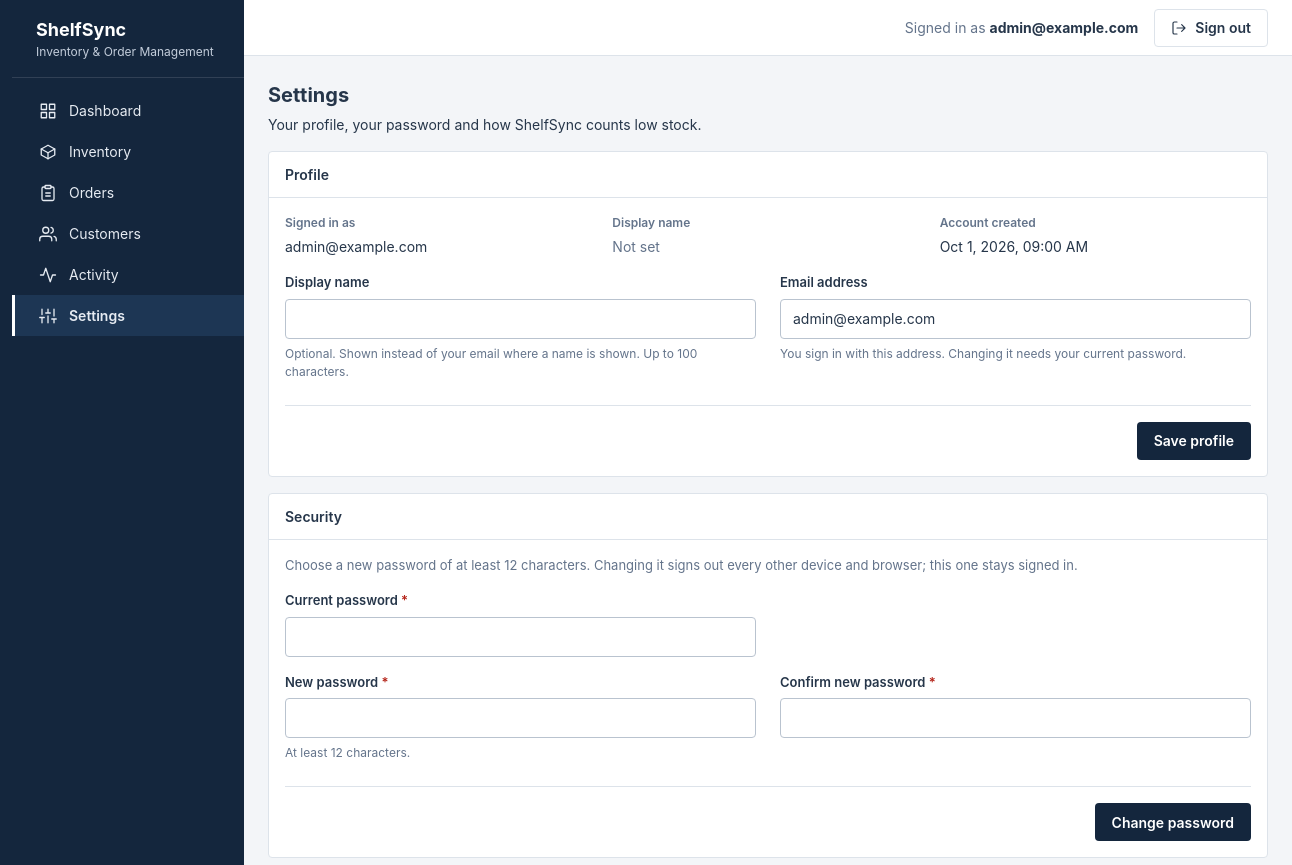
Test: the session after Settings changes › changing only the display name keeps the top bar and the page as they are
The image size is (1292, 865).
In the field labelled "Display name": (520, 318) [285,298,756,338], type "Sam"
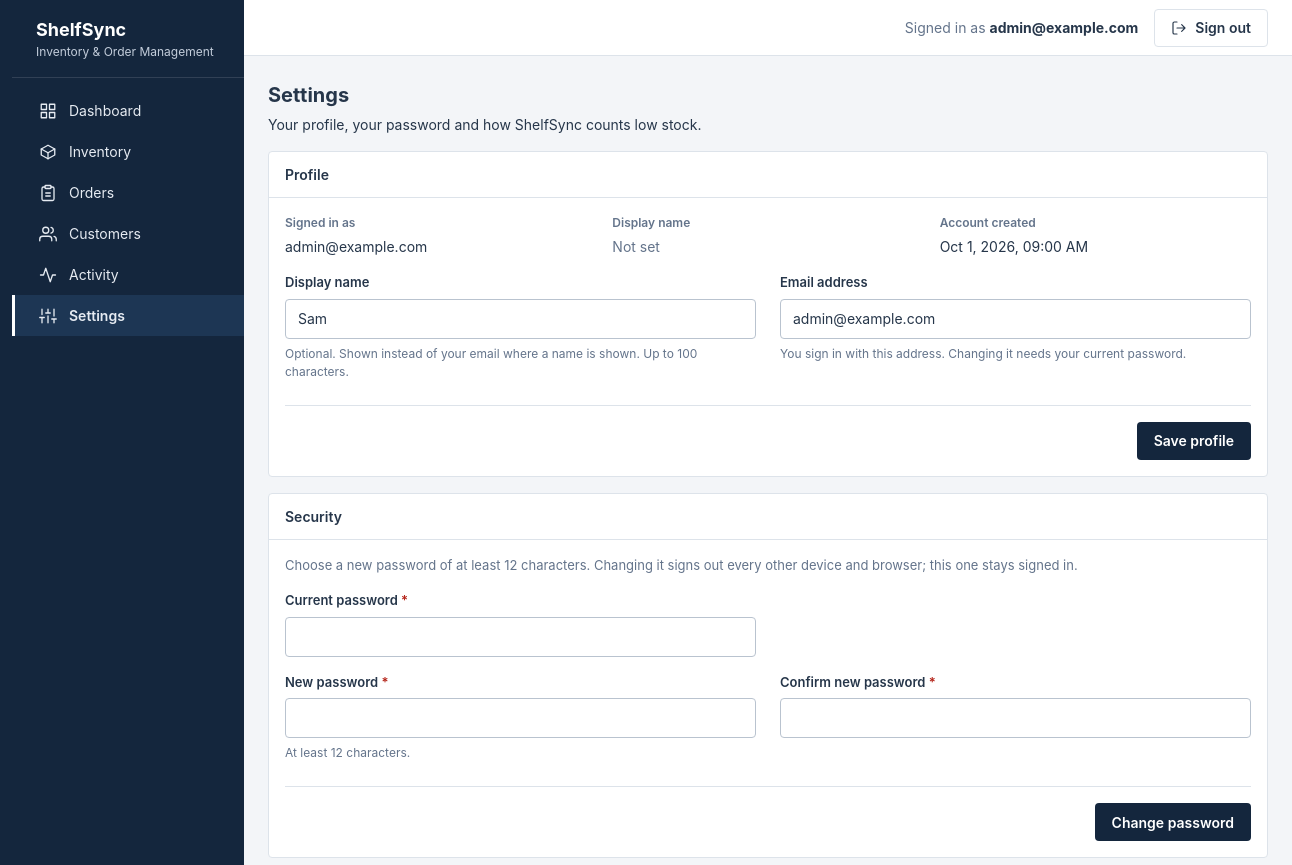
Click the button "Save profile": (1194, 440) [1137,422,1251,460]
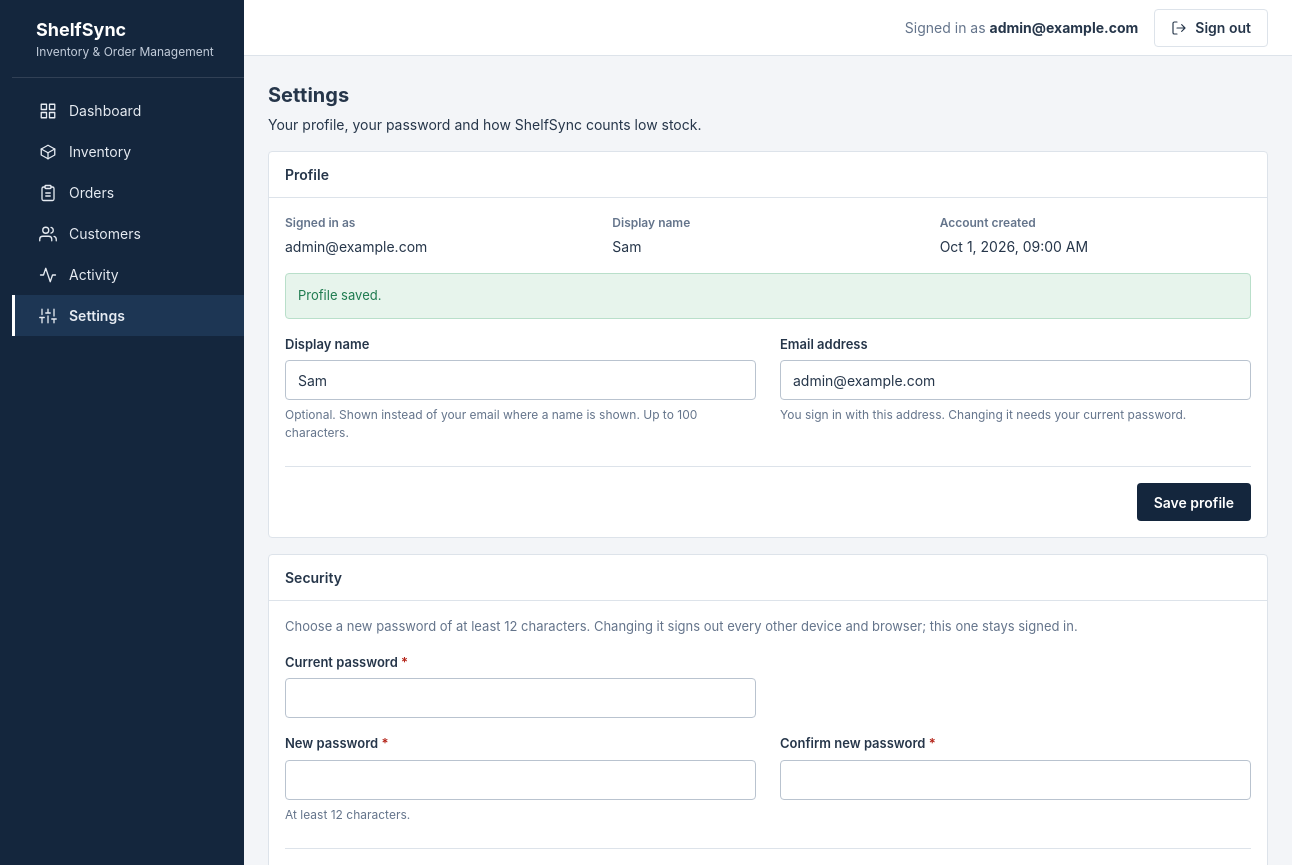
Expected: the 1st text "admin@example.com" is shown, [990,19,1138,36]
Result: the text "Profile saved." is shown at [298,287,381,303]
